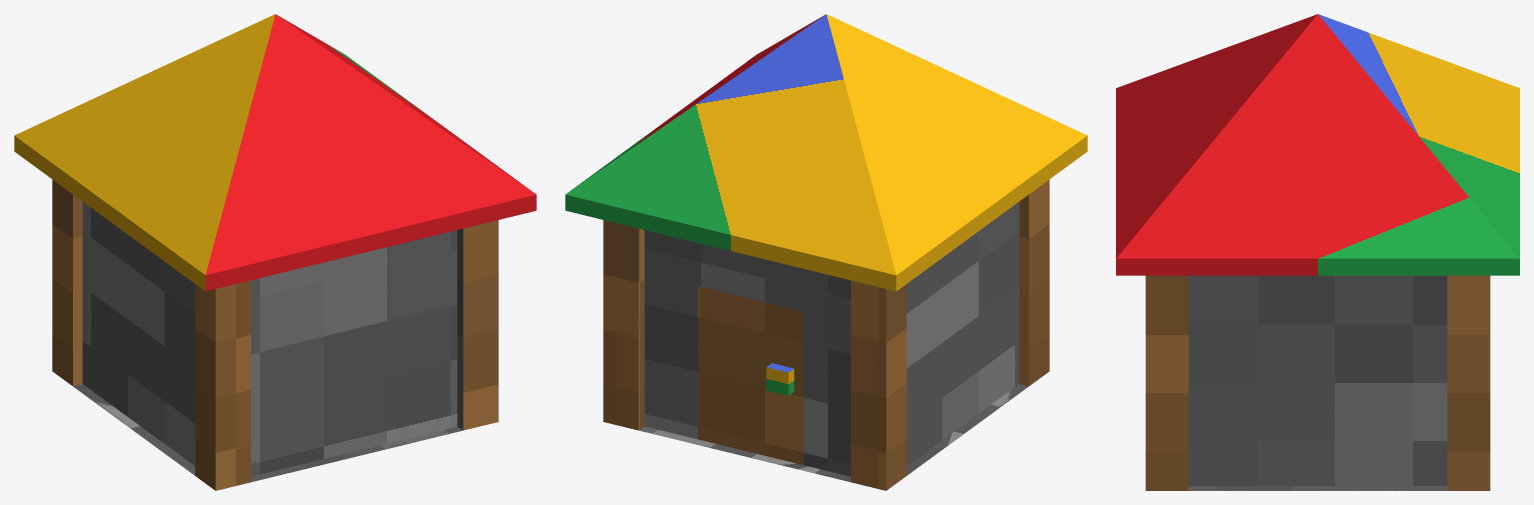
Rendered from House.glb.
3 renders of one model, left to right at view 1: azimuth 30°, elevation 25°; view 2: azimuth 150°, elevation 25°; view 3: azimuth 270°, elevation 25°, orthographic. The views are drawn at different scales.
Parts seen in each view (by area): view 1: House; view 2: House; view 3: House.
Boxes of the visible parts, <box> form: House: <box>14,14,536,490</box>; House: <box>565,14,1087,490</box>; House: <box>1116,14,1519,490</box>.
Size of the model in its own units: 10.02 by 11.07 by 10.02.
Materials: 3 (3 with a texture image).
